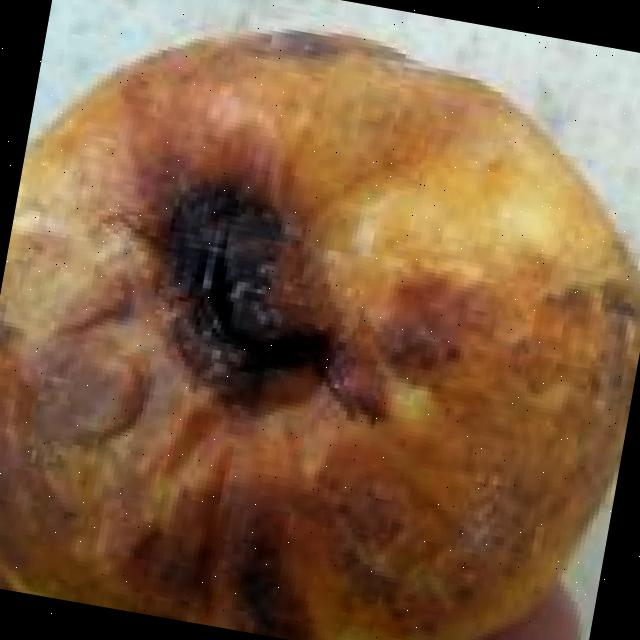Bad_Guava 0 day: (0, 32, 640, 640)
